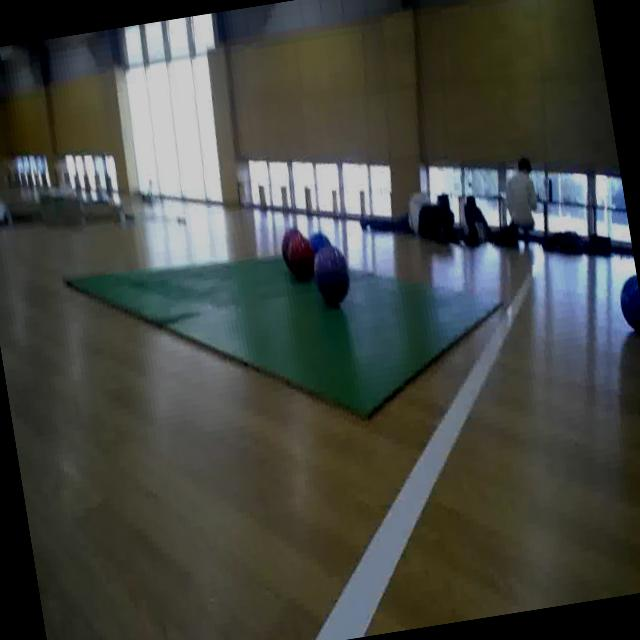blue_ball: (615, 271, 640, 340), (306, 226, 338, 276)
purple_ball: (308, 240, 356, 312)
red_ball: (285, 232, 315, 278), (278, 224, 308, 270)
